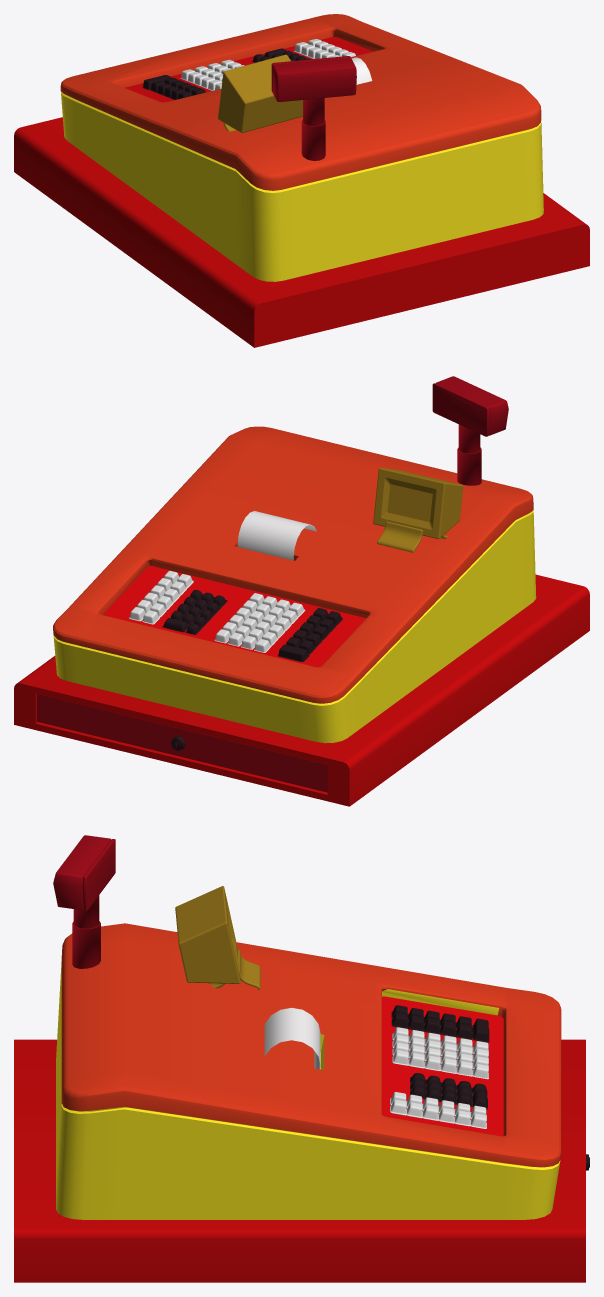
File: casa_marcat.fbx
The picture shows the model from 3 angles, top to bottom: view 1: azimuth 30°, elevation 25°; view 2: azimuth 150°, elevation 25°; view 3: azimuth 270°, elevation 25°; orthographic projection. The views are drawn at different scales.
Parts seen in each view (by area): view 1: Cube.001, Cube, Screen, Cube.002, Cube.003, Square button.001, Cylinder, Square button.002, Square button.003, Cylinder.001; view 2: Cube.001, Cube, Cube.003, Screen, Square button.001, Cube.002, Cylinder.004, Square button.002, Square button.003, Plane, Cylinder, Round button.001; view 3: Cube.001, Cube, Cube.003, Screen, Square button.001, Cube.002, Square button.002, Cylinder.004, Square button.003, Cylinder, Cylinder.001.
Boxes of the visible parts, x1,y1,x2,y2 form: Cube.001: (60,14,543,281); Cube: (14,117,589,347); Screen: (218,54,302,132); Cube.002: (271,56,356,101); Cube.003: (124,37,373,102); Square button.001: (180,59,244,90); Cylinder: (301,120,325,160); Square button.002: (294,39,355,58); Square button.003: (150,77,205,99); Cylinder.001: (303,98,324,125); Cube.001: (53,426,536,743); Cube: (14,574,589,806); Cube.003: (103,565,365,667); Screen: (373,468,463,538); Square button.001: (214,593,305,652); Cube.002: (432,376,508,436); Cylinder.004: (237,511,316,560); Square button.002: (129,570,193,624); Square button.003: (286,608,342,654); Plane: (377,521,422,552); Cylinder: (457,447,481,485); Round button.001: (185,595,227,634); Cube.001: (56,923,561,1219); Cube: (14,1039,585,1282); Cube.003: (382,996,503,1136); Screen: (175,886,240,983); Square button.001: (392,1027,488,1079); Cube.002: (53,835,115,910); Square button.002: (390,1092,486,1128); Cylinder.004: (264,1007,320,1069); Square button.003: (391,1005,472,1039); Cylinder: (72,921,100,968); Cylinder.001: (73,895,99,928).
Bounding box in the file's own units: 233 × 168 × 291.
